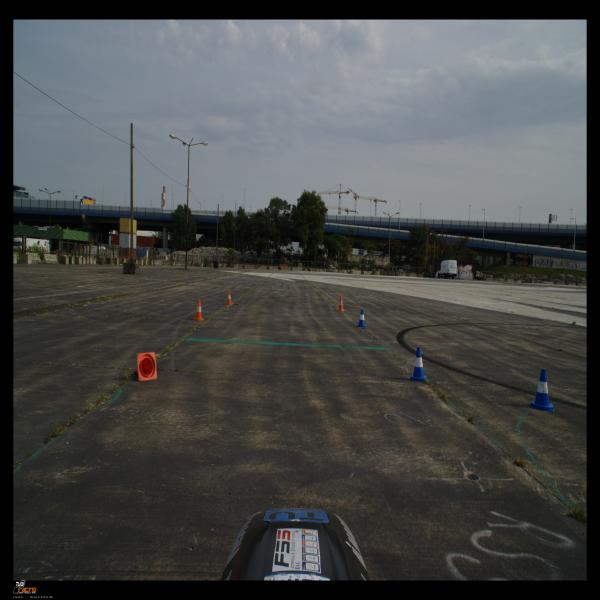blue_cone: (530, 369, 555, 412), (408, 347, 430, 382), (357, 309, 367, 328)
orange_cone: (134, 352, 157, 381), (192, 299, 204, 321), (226, 290, 233, 305), (338, 296, 344, 312)
